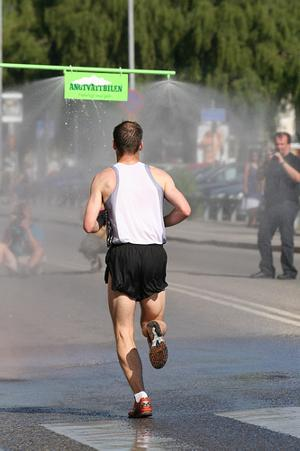person: (83, 120, 192, 422)
